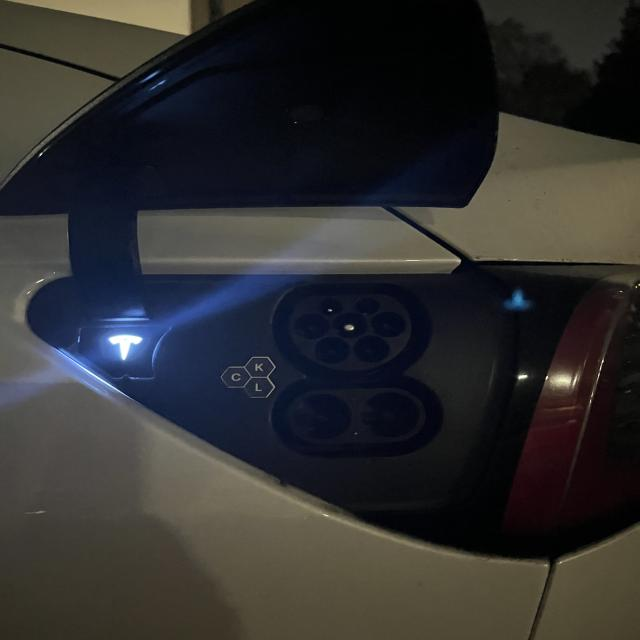inlet: (289, 294, 411, 371)
inlet-above-left: (315, 298, 343, 315)
inlet-above-right: (355, 297, 381, 315)
inlet-below-left: (314, 337, 350, 364)
inlet-below-right: (354, 336, 390, 362)
inlet-circle: (333, 313, 368, 338)
inlet-circle-left: (295, 314, 330, 339)
inlet-circle-right: (372, 312, 407, 337)
inlet-minus: (361, 392, 419, 438)
inlet-plus: (294, 394, 352, 439)
